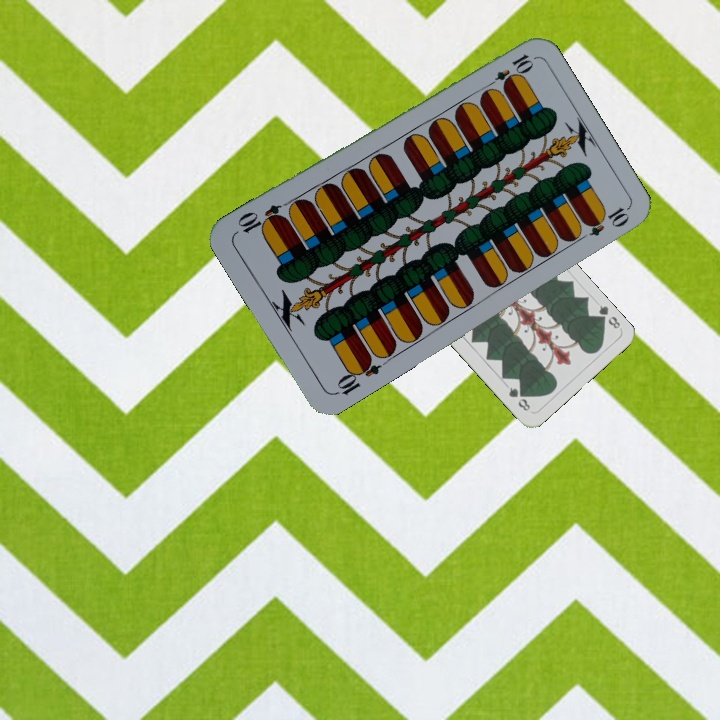E10: (330, 352, 383, 398), (481, 50, 536, 93)
G8: (592, 301, 623, 331)
